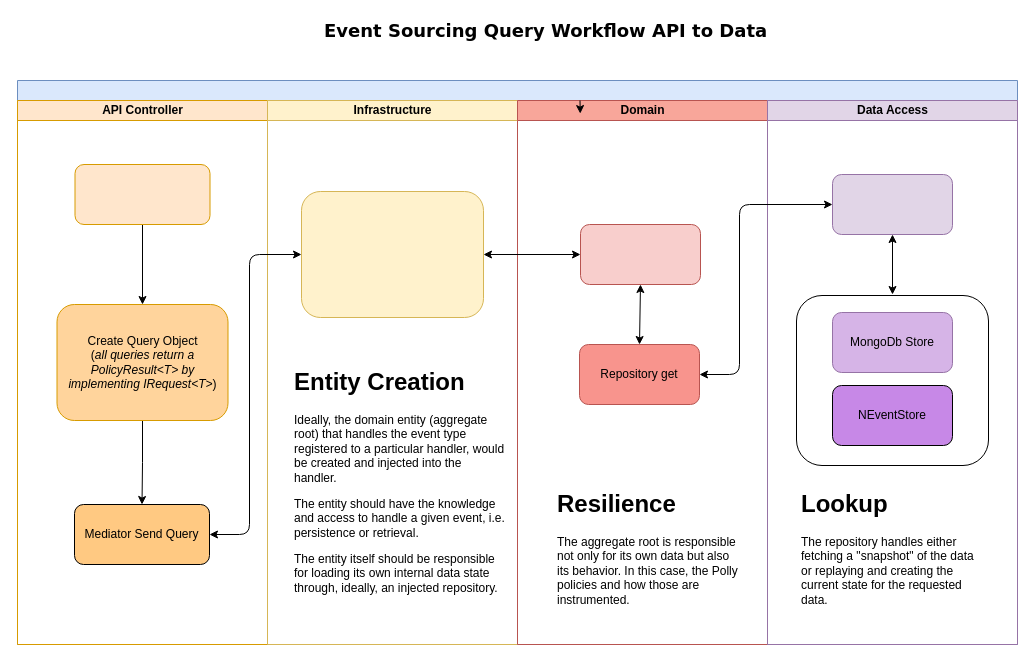
This 1035x662 diagram has some shape labels left out. Here are the shapes that lost their labels. From the top down, the centre of each, then its label:
At pixel 142 194: "HttpRequest(Dto dto)".
At pixel 892 204: "Repository Implementation".
At pixel 392 254: "Query Handler (mediatr) returns PolicyResult<T>".
At pixel 640 254: "Domain Entity (aggregate root)".
